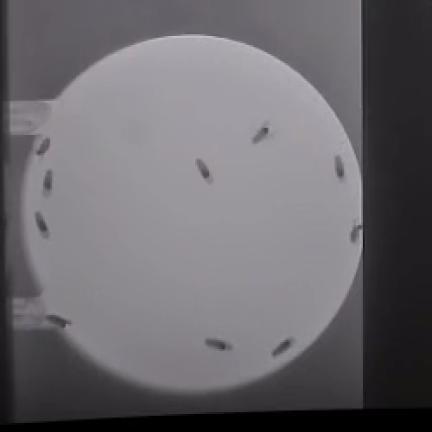fly: (196, 159, 212, 183), (35, 213, 50, 237), (272, 339, 293, 356), (253, 123, 269, 143), (45, 315, 70, 327), (206, 339, 231, 350), (37, 137, 50, 156), (44, 170, 53, 196), (336, 155, 345, 179), (351, 224, 362, 242)
